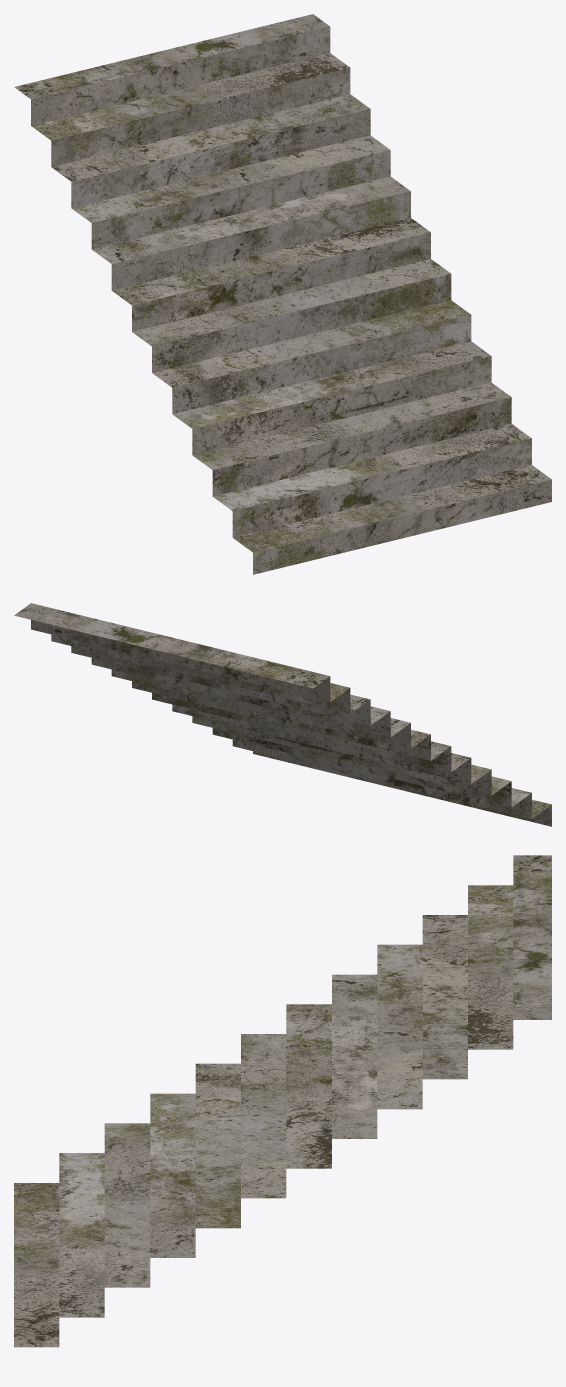
The model's file is Stairs.fbx.
3 views of the same model, one above another, from view 1: azimuth 30°, elevation 25°; view 2: azimuth 150°, elevation 25°; view 3: azimuth 270°, elevation 25° (orthographic). The views are drawn at different scales.
Visible parts, largest first — view 1: Cube; view 2: Cube; view 3: Cube.
Boxes of the visible parts, <box> form: Cube: <box>14,14,551,574</box>; Cube: <box>14,603,551,826</box>; Cube: <box>14,855,551,1347</box>.
Size of the model in its own units: 200 by 200 by 277.
1 material, 1 textured.
